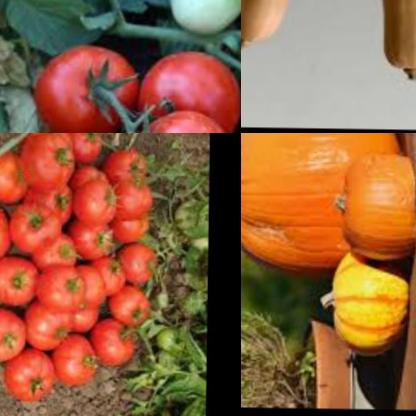pumpkin: (241, 133, 397, 271), (317, 243, 416, 355), (332, 140, 416, 266), (350, 0, 416, 88), (241, 0, 337, 55)
tomato: (35, 35, 142, 133), (135, 47, 241, 129), (123, 104, 241, 133), (23, 133, 79, 188), (6, 351, 57, 409), (11, 205, 64, 257), (165, 0, 241, 35), (93, 317, 143, 367), (109, 176, 160, 221), (57, 335, 100, 387), (20, 306, 73, 348), (76, 179, 125, 222), (43, 269, 90, 312), (117, 243, 162, 286), (105, 145, 151, 187), (32, 182, 77, 224), (36, 232, 85, 270), (0, 304, 32, 362), (113, 287, 156, 328), (0, 254, 35, 304), (0, 154, 35, 201), (74, 216, 114, 255), (94, 256, 127, 295), (0, 199, 18, 261), (116, 210, 151, 240), (68, 133, 108, 158)
